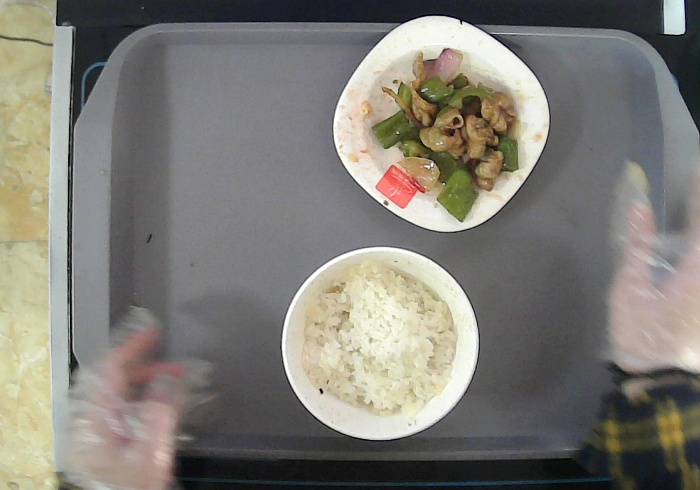SHKJ-Bai_Se_Si_Fang_Cai_Die: (326, 11, 555, 236)
SHKJ-Fan_Wan: (277, 240, 482, 448)
